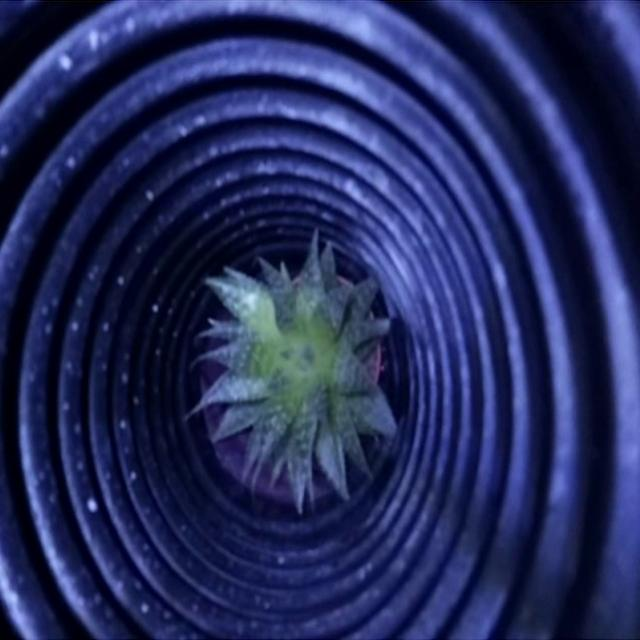leaf: (211, 266, 381, 500)
